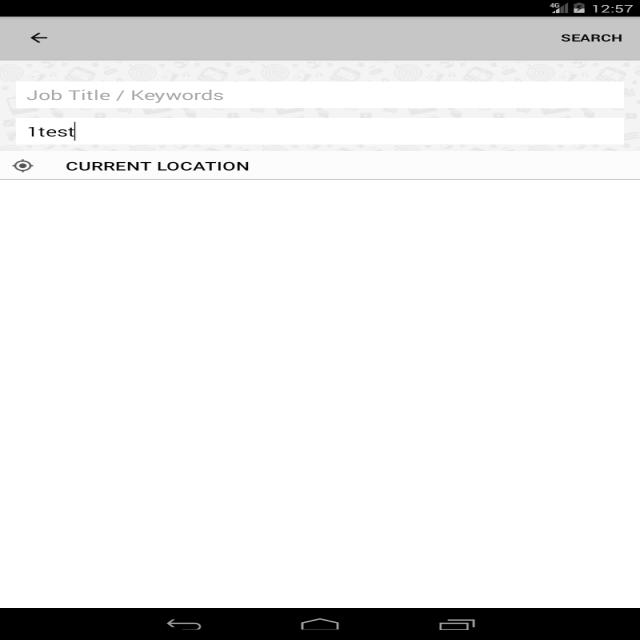EditText: (8, 114, 631, 148), (10, 75, 632, 109)
ImageButton: (20, 27, 67, 53)
ImageView: (10, 156, 40, 173)
TextView: (62, 158, 262, 177), (556, 29, 630, 48)
